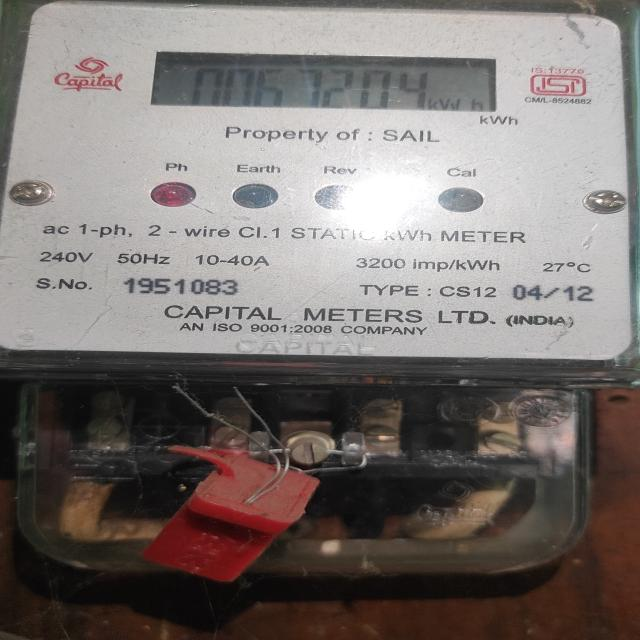display: (142, 48, 508, 115)
